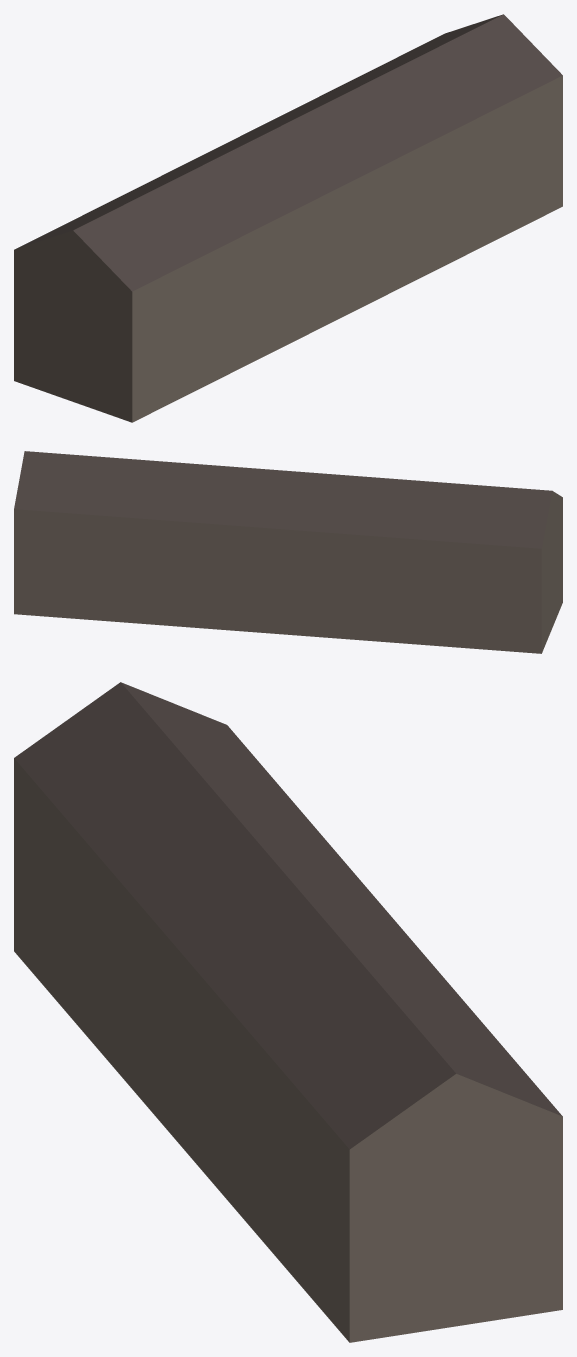
The picture shows the model from 3 angles, top to bottom: view 1: azimuth 30°, elevation 25°; view 2: azimuth 150°, elevation 25°; view 3: azimuth 270°, elevation 25°; orthographic projection. The views are drawn at different scales.
Parts seen in each view (by area): view 1: HP-w372180471; view 2: HP-w372180471; view 3: HP-w372180471.
Boxes of the visible parts, box(x1,y1,x2,y2) form: HP-w372180471: box(14, 14, 562, 422); HP-w372180471: box(14, 451, 562, 653); HP-w372180471: box(14, 682, 562, 1342).
Bounding box in the file's own units: 42.41 × 11.77 × 23.17.
